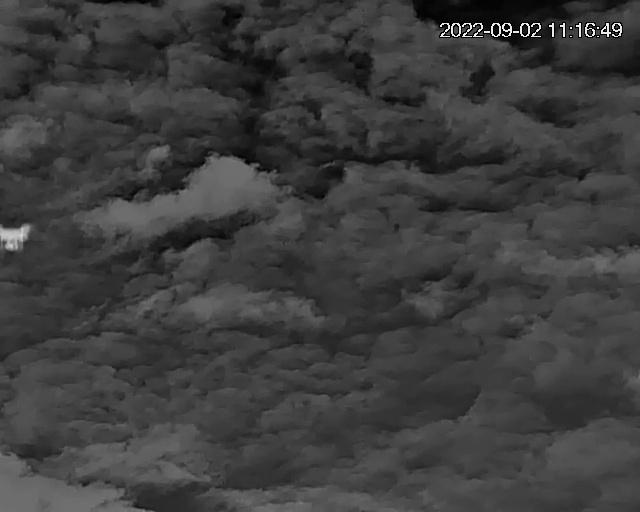DJI-Phantom: (0, 225, 32, 255)
